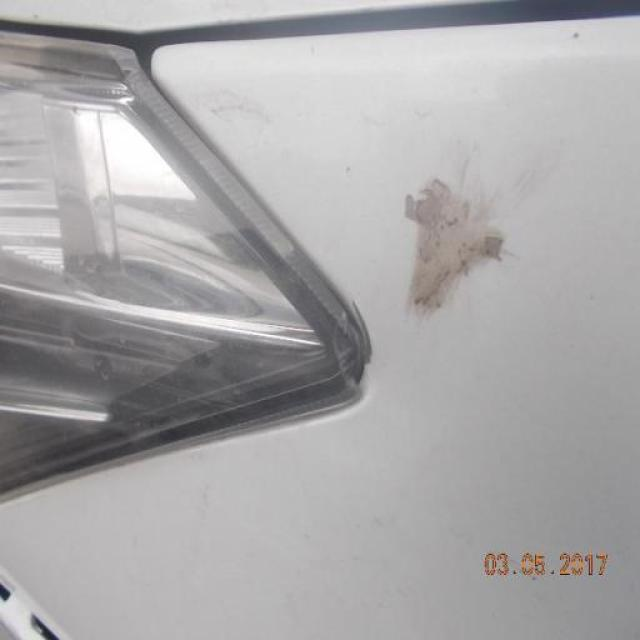scratch: (408, 169, 504, 318)
